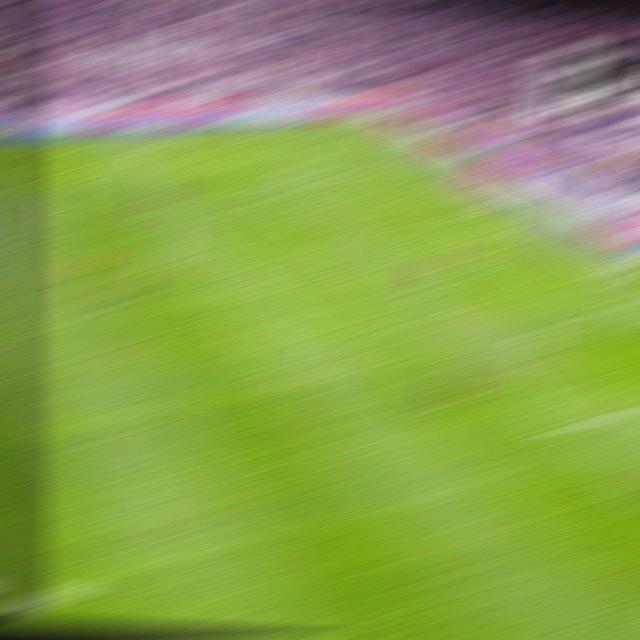bigarea_bottom_inner: (540, 418, 574, 436)
bigarea_top_inner: (251, 178, 281, 186)
bigarea_top_outter: (422, 158, 454, 166)
bottom_arc_area_intersection: (413, 314, 447, 328)
corner: (352, 119, 384, 123)
smallarea_bottom_inner: (584, 302, 618, 316)
smallarea_top_inner: (437, 208, 468, 217)
top_arc_area_intersection: (315, 232, 346, 242)
